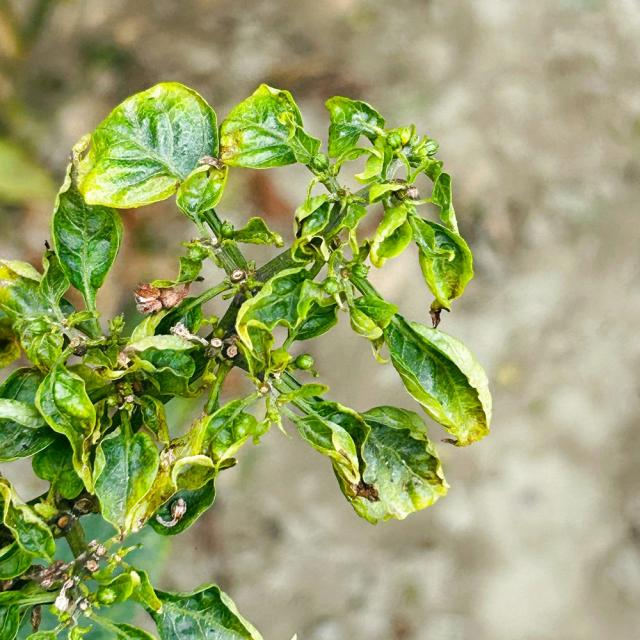Chilli_Leaf_Curl: (0, 80, 492, 638), (285, 395, 450, 525), (74, 80, 220, 211), (383, 314, 493, 448), (217, 82, 316, 170)
